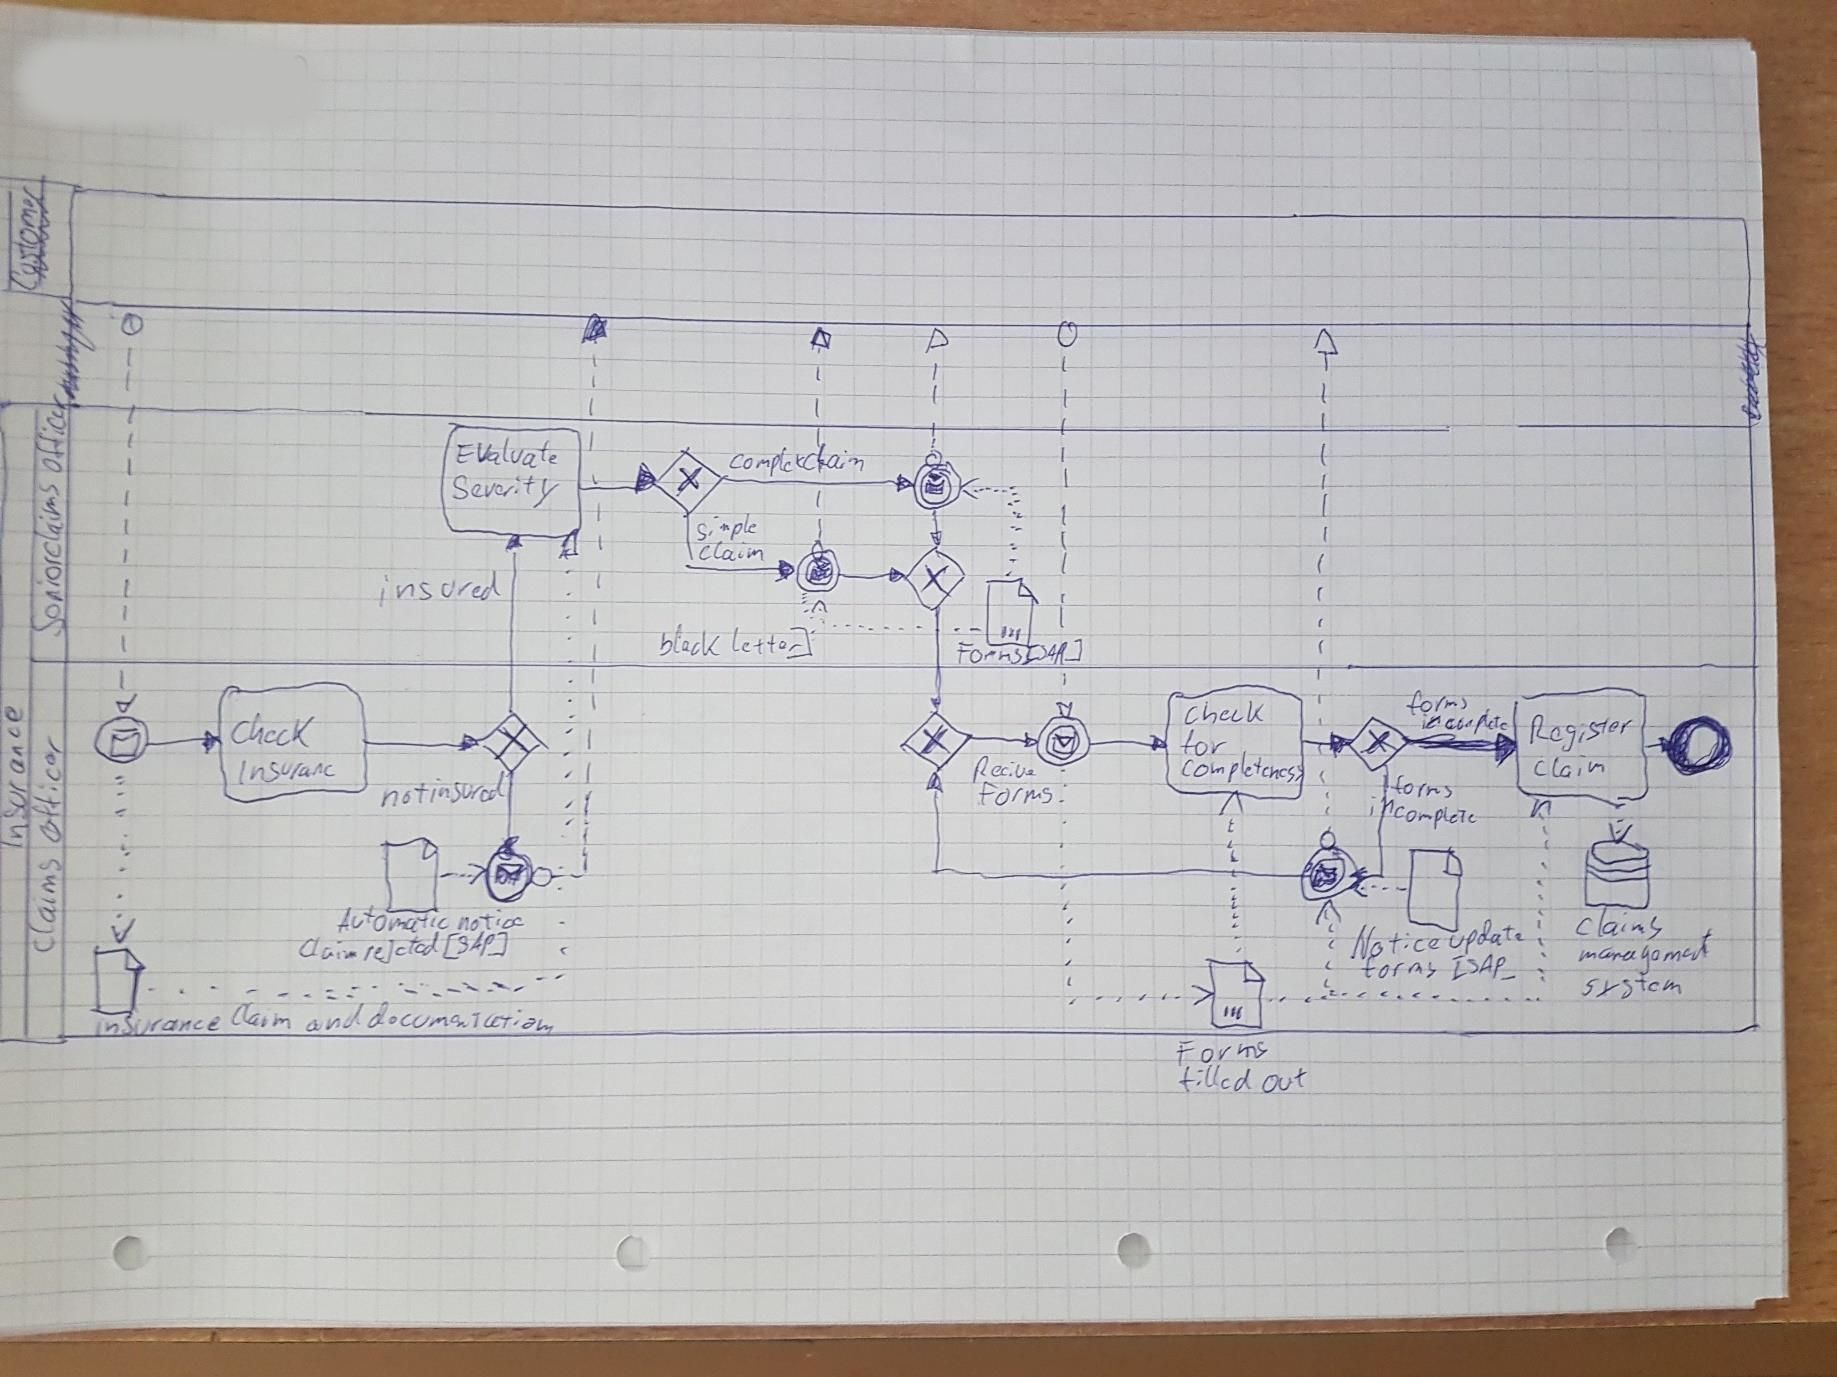Automatic: (334, 907, 451, 934)
Check: (233, 715, 324, 752)
Claim: (226, 1005, 304, 1036), (699, 541, 764, 563)
Customer: (14, 185, 42, 285)
Evaluate: (456, 438, 561, 472)
Forms: (976, 783, 1060, 811), (1179, 1039, 1269, 1065), (956, 644, 1017, 665)
Insurance: (1, 707, 30, 850), (234, 756, 338, 788)
Notice: (1352, 926, 1441, 962)
Recive: (973, 754, 1039, 783)
Register: (1525, 712, 1637, 749)
Severity: (450, 473, 560, 508)
[SAP]: (440, 931, 512, 963), (1449, 955, 1517, 984), (1020, 639, 1081, 665)
and: (307, 1004, 367, 1036)
black: (657, 626, 717, 662)
check: (1183, 702, 1270, 729)
claim: (297, 934, 362, 966), (1530, 754, 1607, 780)
claims: (27, 852, 64, 953), (1577, 914, 1663, 942)
completeness: (1179, 755, 1310, 790)
complexclaim: (725, 445, 869, 479)
documentation: (372, 1004, 557, 1040)
filled: (1176, 1066, 1258, 1095)
for: (1177, 730, 1240, 764)
forms: (1360, 956, 1446, 985), (1389, 772, 1457, 804), (1407, 691, 1472, 719)
incomplete: (1365, 796, 1478, 827), (1413, 712, 1517, 742)
insurance: (97, 1008, 223, 1041)
insured: (370, 573, 503, 610), (427, 777, 508, 811)
lettera: (722, 626, 814, 662)
management: (1580, 936, 1713, 968)
not: (380, 781, 427, 811)
notice: (456, 913, 521, 934)
officer: (38, 382, 84, 474), (32, 736, 67, 835)
out: (1263, 1067, 1310, 1096)
rejected: (359, 936, 440, 962)
seniorclaims: (38, 482, 72, 635)
simple: (694, 512, 761, 542)
system: (1580, 973, 1684, 998)
update: (1446, 920, 1530, 955)
